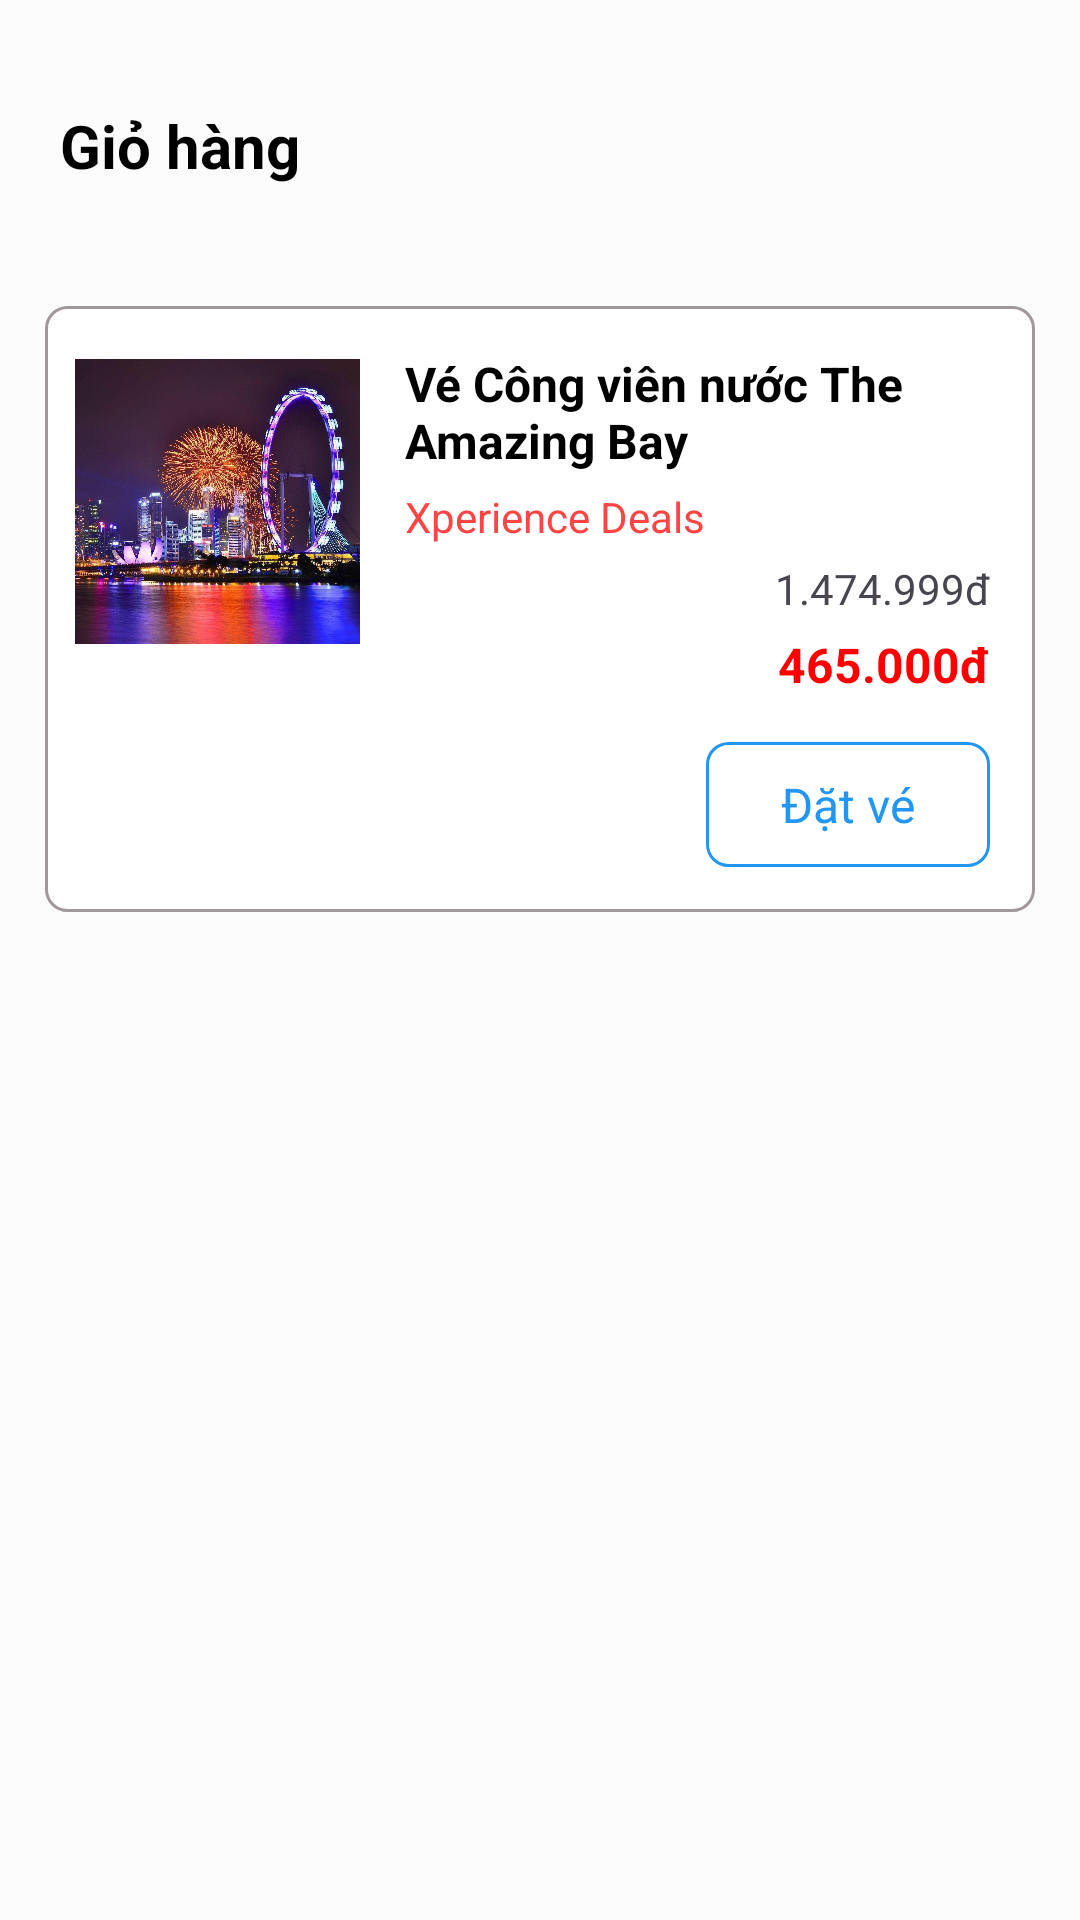

Named icons in this screenshot (1080 × 1920) and their centers, [x,y]:
anh: [217,501]
